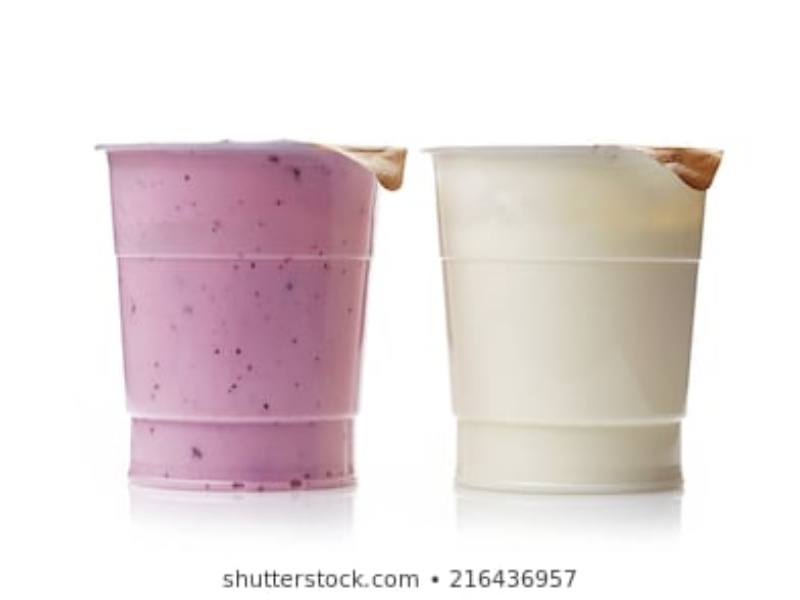yogurt-cup: (84, 127, 398, 494), (419, 135, 727, 502)
